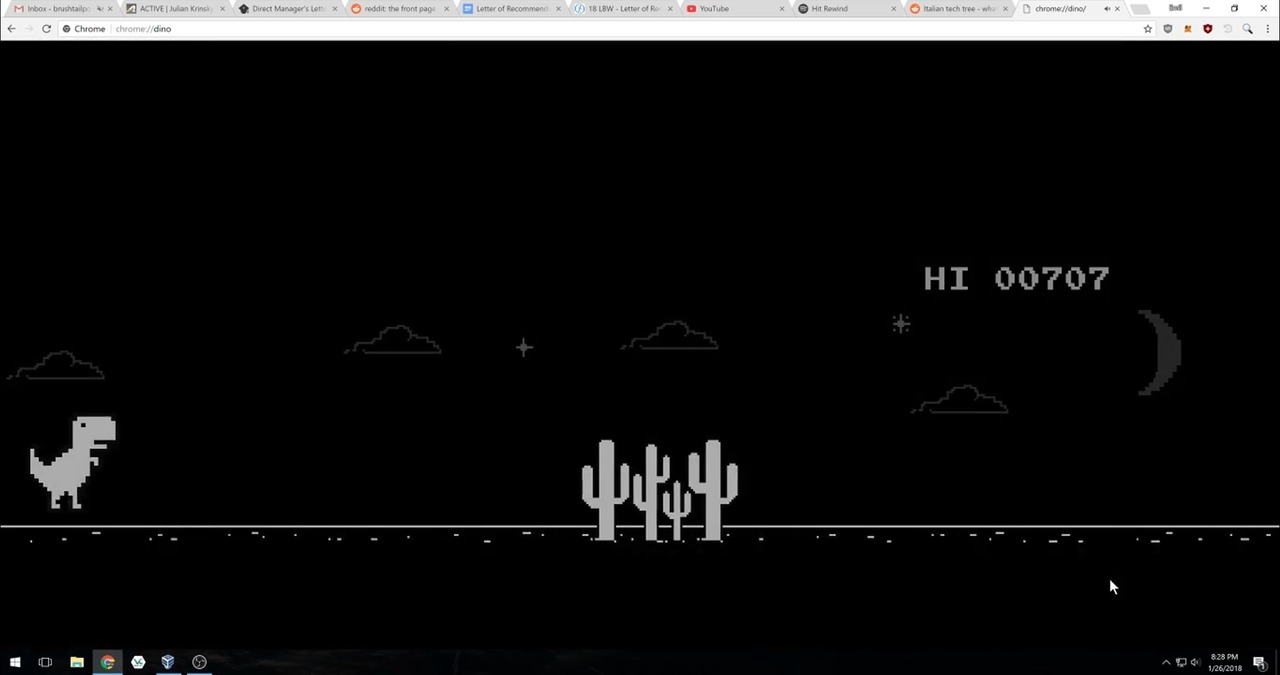cactus: (576, 438, 741, 549)
dinosaur: (27, 407, 116, 513)
